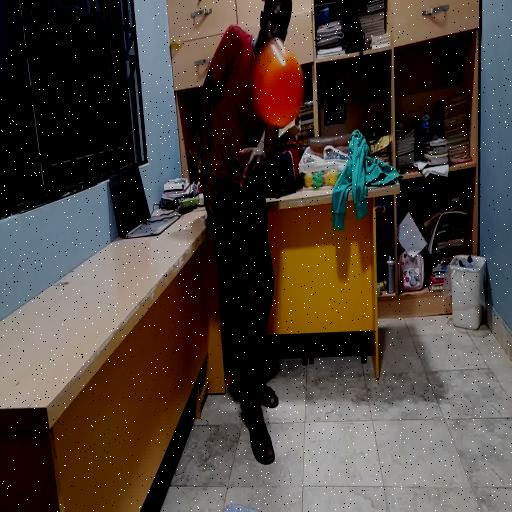plastic-ball: (250, 33, 307, 132)
